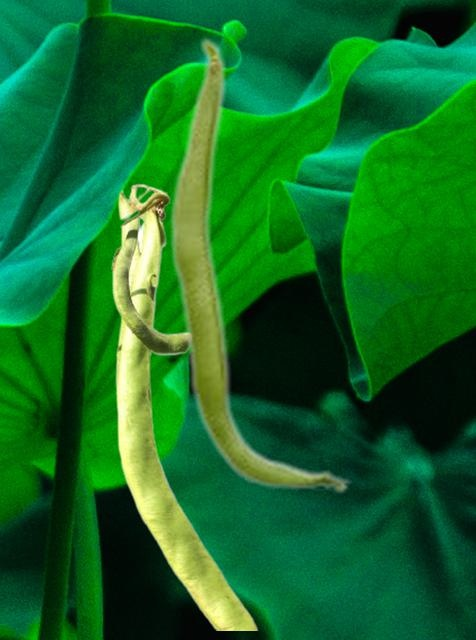french_bean: (167, 36, 350, 494), (110, 183, 257, 629)
